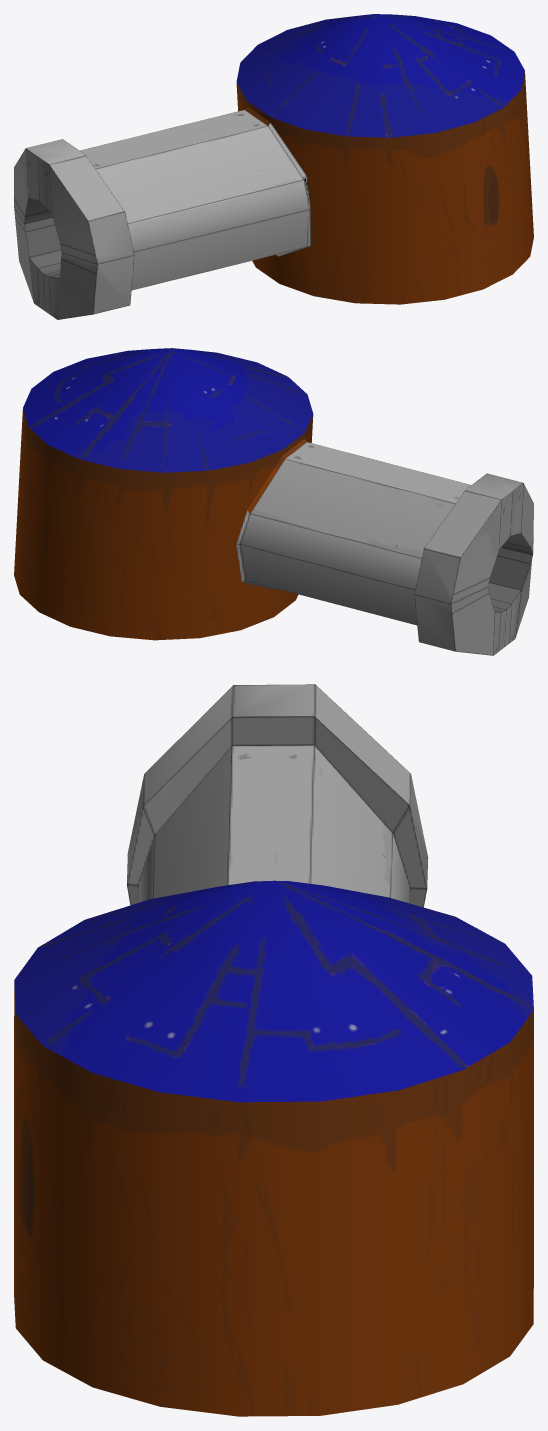
Rendered from Gun Head Blue.fbx.
3 renders of one model, top to bottom at view 1: azimuth 30°, elevation 25°; view 2: azimuth 150°, elevation 25°; view 3: azimuth 270°, elevation 25°, orthographic. The views are drawn at different scales.
Visible parts, largest first — view 1: pPlane2; view 2: pPlane2; view 3: pPlane2.
Part boxes in pixels (x1=…): pPlane2: x1=14, y1=14, x2=533, y2=319; pPlane2: x1=14, y1=348, x2=533, y2=655; pPlane2: x1=14, y1=684, x2=533, y2=1416.
Size of the model in its own units: 11.54 by 5.36 by 6.02.
Materials: 1 (1 with a texture image).
